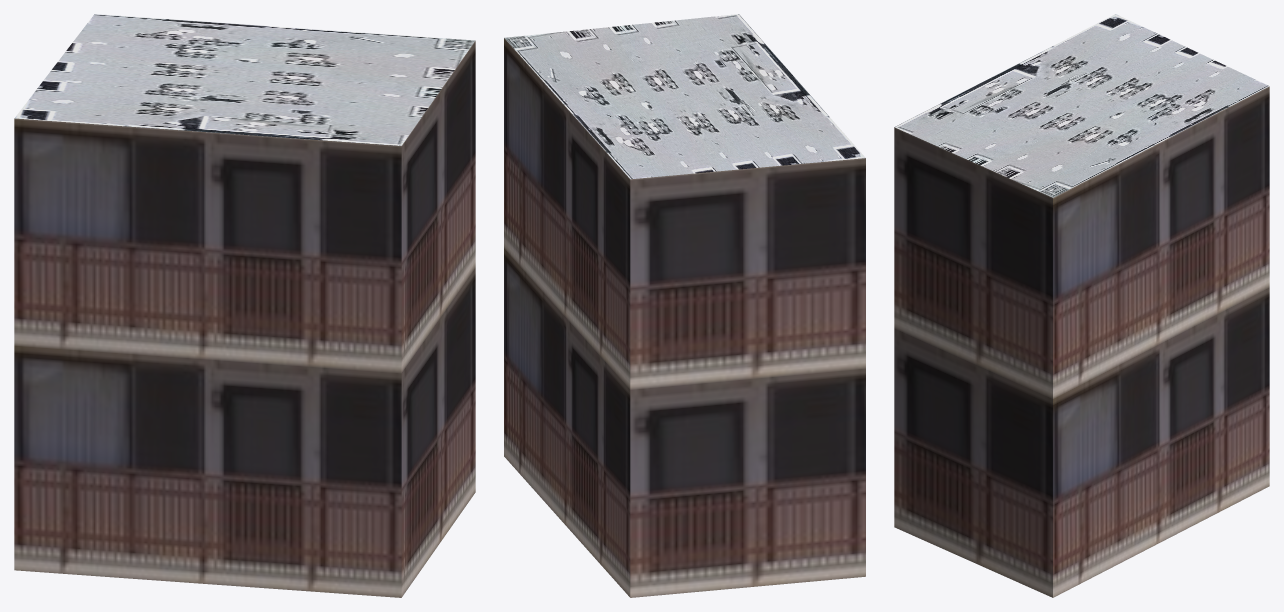
The model's file is ResTex__1775.fbx.
The picture shows the model from 3 angles, left to right: view 1: azimuth 30°, elevation 25°; view 2: azimuth 150°, elevation 25°; view 3: azimuth 270°, elevation 25°; orthographic projection. The views are drawn at different scales.
Parts seen in each view (by area): view 1: CityEngineMaterial_6_m, CityEngineMaterial_m; view 2: CityEngineMaterial_6_m, CityEngineMaterial_m; view 3: CityEngineMaterial_6_m, CityEngineMaterial_m.
Part boxes in pixels (left/top/right/bottom): CityEngineMaterial_6_m: left=14, top=41, right=475, bottom=597; CityEngineMaterial_m: left=14, top=14, right=475, bottom=145; CityEngineMaterial_6_m: left=504, top=38, right=865, bottom=597; CityEngineMaterial_m: left=504, top=14, right=865, bottom=179; CityEngineMaterial_6_m: left=894, top=86, right=1269, bottom=597; CityEngineMaterial_m: left=894, top=14, right=1269, bottom=197.
Bounding box in the file's own units: 5.92 × 6 × 5.11.
2 materials, 2 textured.
